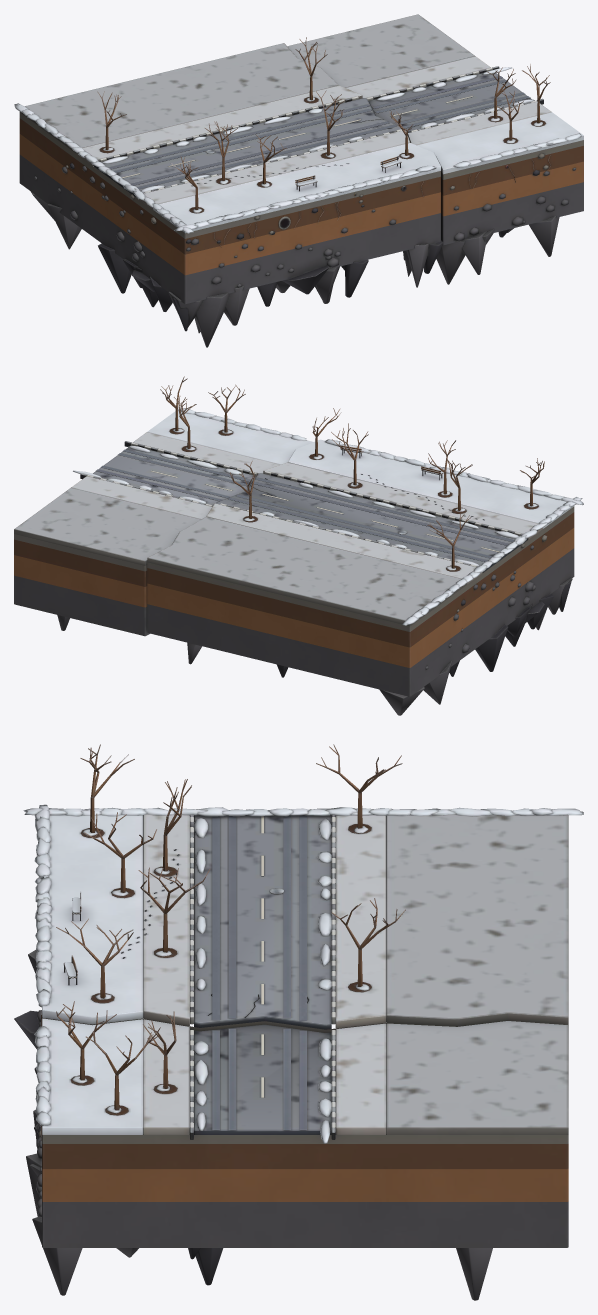
The model's file is street_slab.glb.
3 views of the same model, one above another, from view 1: azimuth 30°, elevation 25°; view 2: azimuth 150°, elevation 25°; view 3: azimuth 270°, elevation 25° (orthographic). The views are drawn at different scales.
Visible parts, largest first — view 1: street_slab; view 2: street_slab; view 3: street_slab.
Boxes of the visible parts, x1,y1,x2,y2 form: street_slab: (14,14,583,347); street_slab: (14,376,583,715); street_slab: (14,744,583,1300).
Bounding box in the file's own units: 38.62 × 16.4 × 28.15.
Materials: 1 (1 with a texture image).
